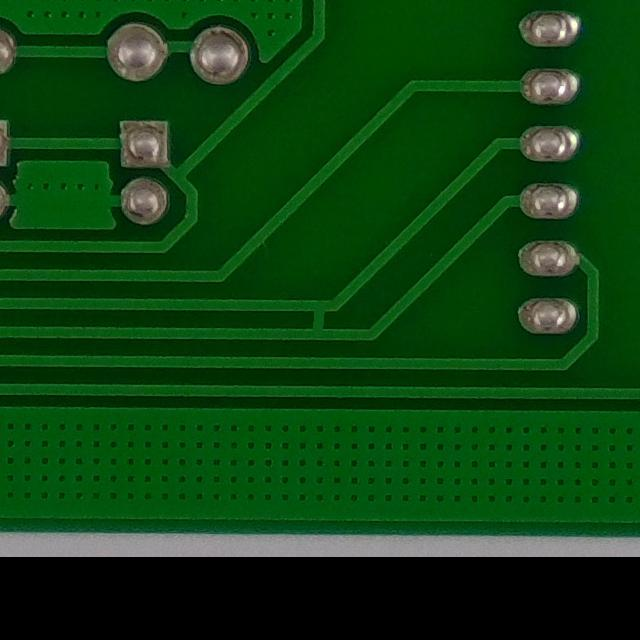short: (291, 297, 349, 344)
